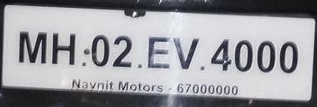character: (17, 30, 48, 63), (172, 36, 197, 70), (51, 32, 76, 65), (147, 36, 169, 70), (112, 34, 132, 68), (278, 41, 298, 75), (210, 38, 230, 71), (233, 39, 252, 71), (256, 40, 274, 73), (91, 33, 108, 66)
